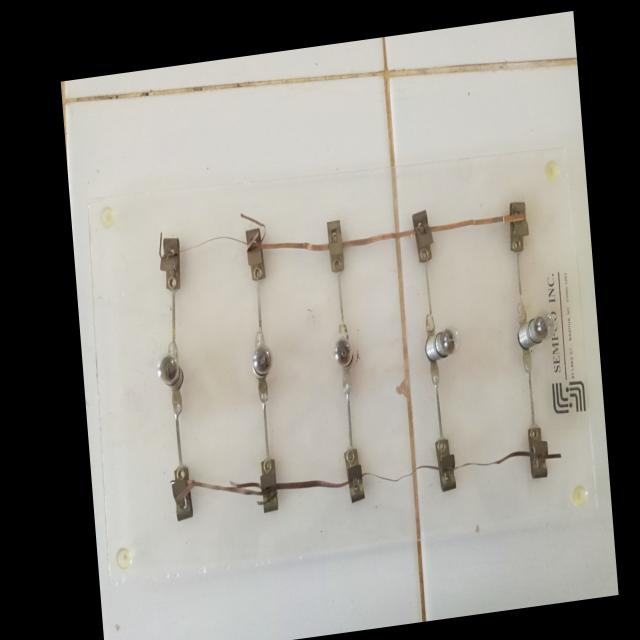Set of Resistors and Bulbs: (132, 162, 578, 550)
